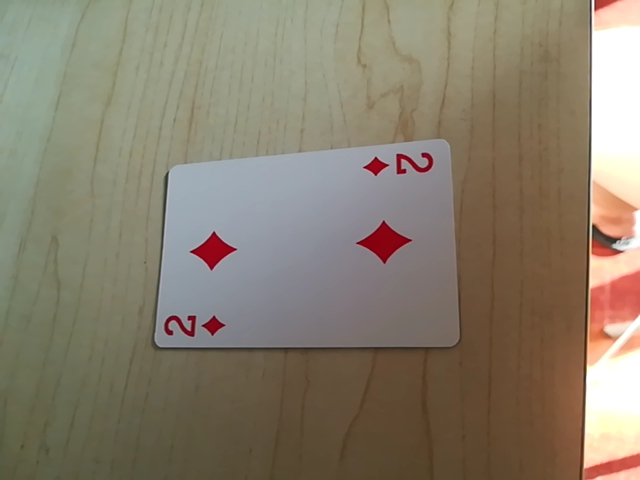fk 2: (360, 146, 440, 184), (158, 309, 232, 345)
